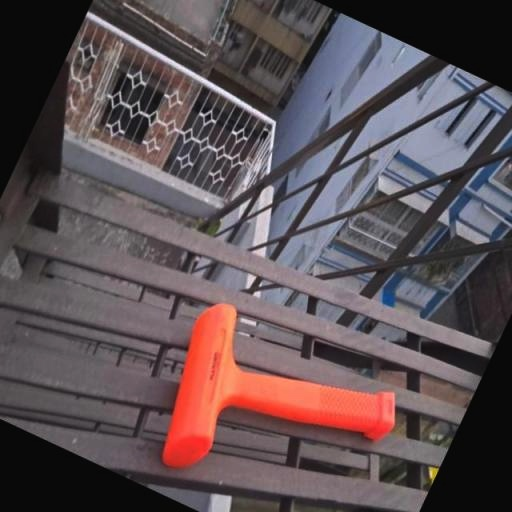mallet: (134, 294, 410, 512)
